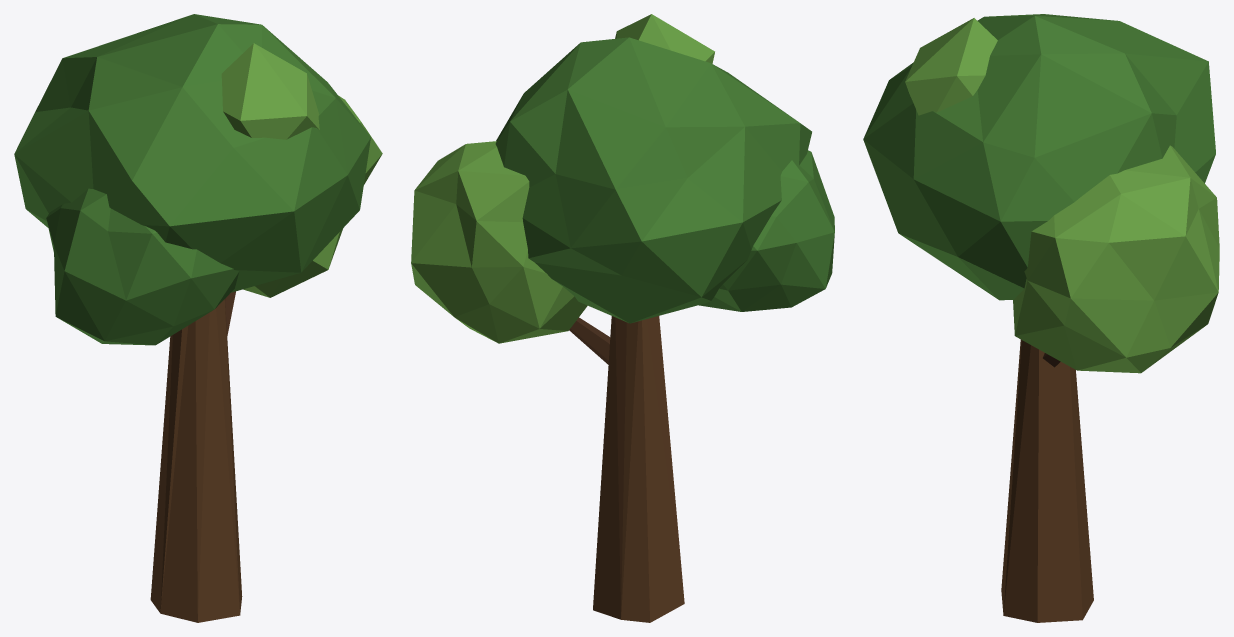
File: TreeOak.obj
3 renders of one model, left to right at view 1: azimuth 30°, elevation 25°; view 2: azimuth 150°, elevation 25°; view 3: azimuth 270°, elevation 25°, orthographic. The views are drawn at different scales.
Parts seen in each view (by area): view 1: TreeOak; view 2: TreeOak; view 3: TreeOak.
Boxes of the visible parts, left/top/right/bottom form: TreeOak: left=14, top=14, right=382, bottom=622; TreeOak: left=411, top=14, right=834, bottom=622; TreeOak: left=863, top=14, right=1219, bottom=622.
Size of the model in its own units: 9.21 by 14.04 by 7.58.
